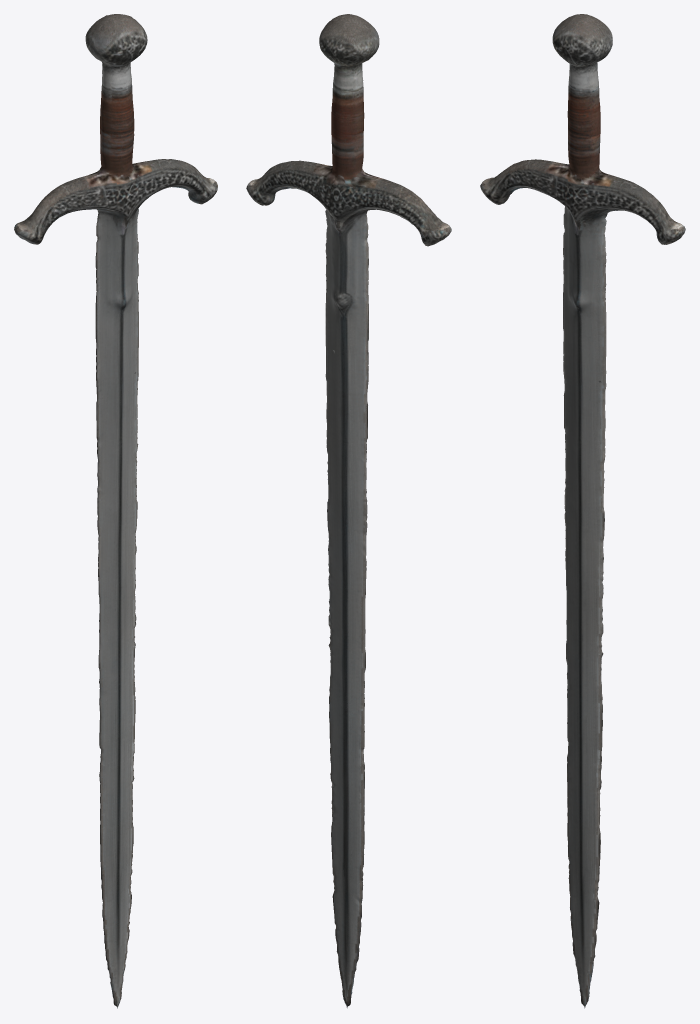
File: langschwert_original.glb
The picture shows the model from 3 angles, left to right: view 1: azimuth 30°, elevation 25°; view 2: azimuth 150°, elevation 25°; view 3: azimuth 330°, elevation 25°; orthographic projection.
Bounding box in the file's own units: 0.4221 × 2 × 0.1046.
Materials: 1 (1 with a texture image).
